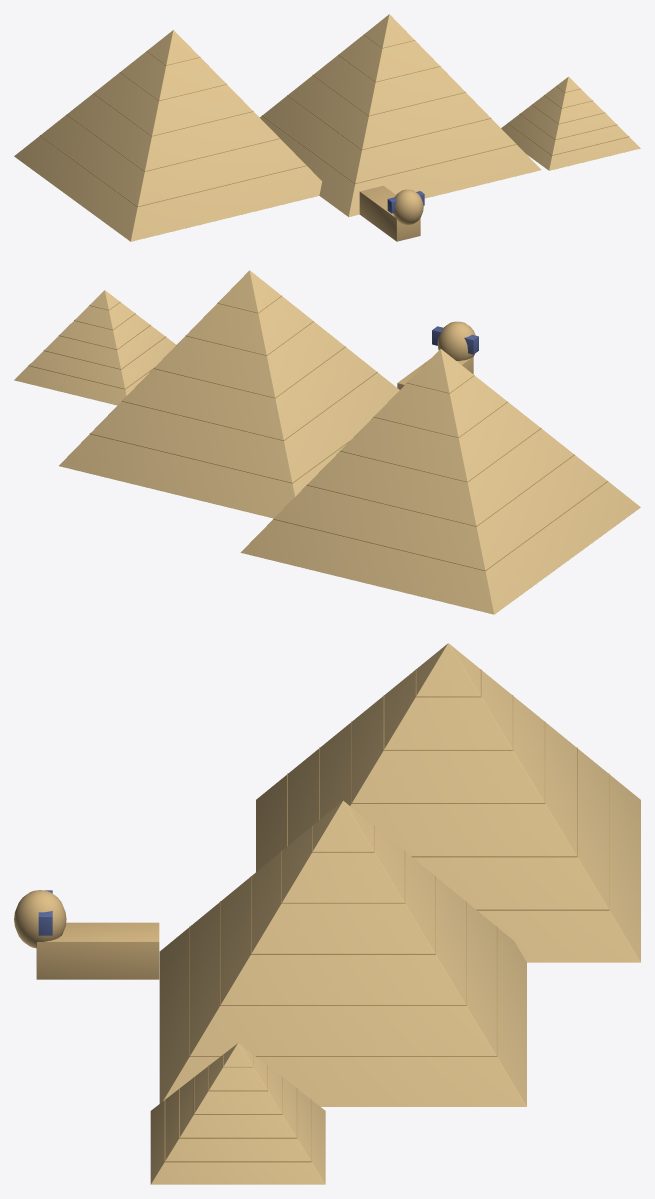
File: marco_piramides.glb
3 renders of one model, top to bottom at view 1: azimuth 30°, elevation 25°; view 2: azimuth 150°, elevation 25°; view 3: azimuth 270°, elevation 25°, orthographic. The views are drawn at different scales.
Visible parts, largest first — view 1: marco_piramides; view 2: marco_piramides; view 3: marco_piramides.
Boxes of the visible parts, x1=… form: marco_piramides: x1=14, y1=14, x2=640, y2=241; marco_piramides: x1=14, y1=270, x2=640, y2=614; marco_piramides: x1=14, y1=643, x2=640, y2=1184.
Size of the model in its own units: 51.98 by 15 by 35.79.
